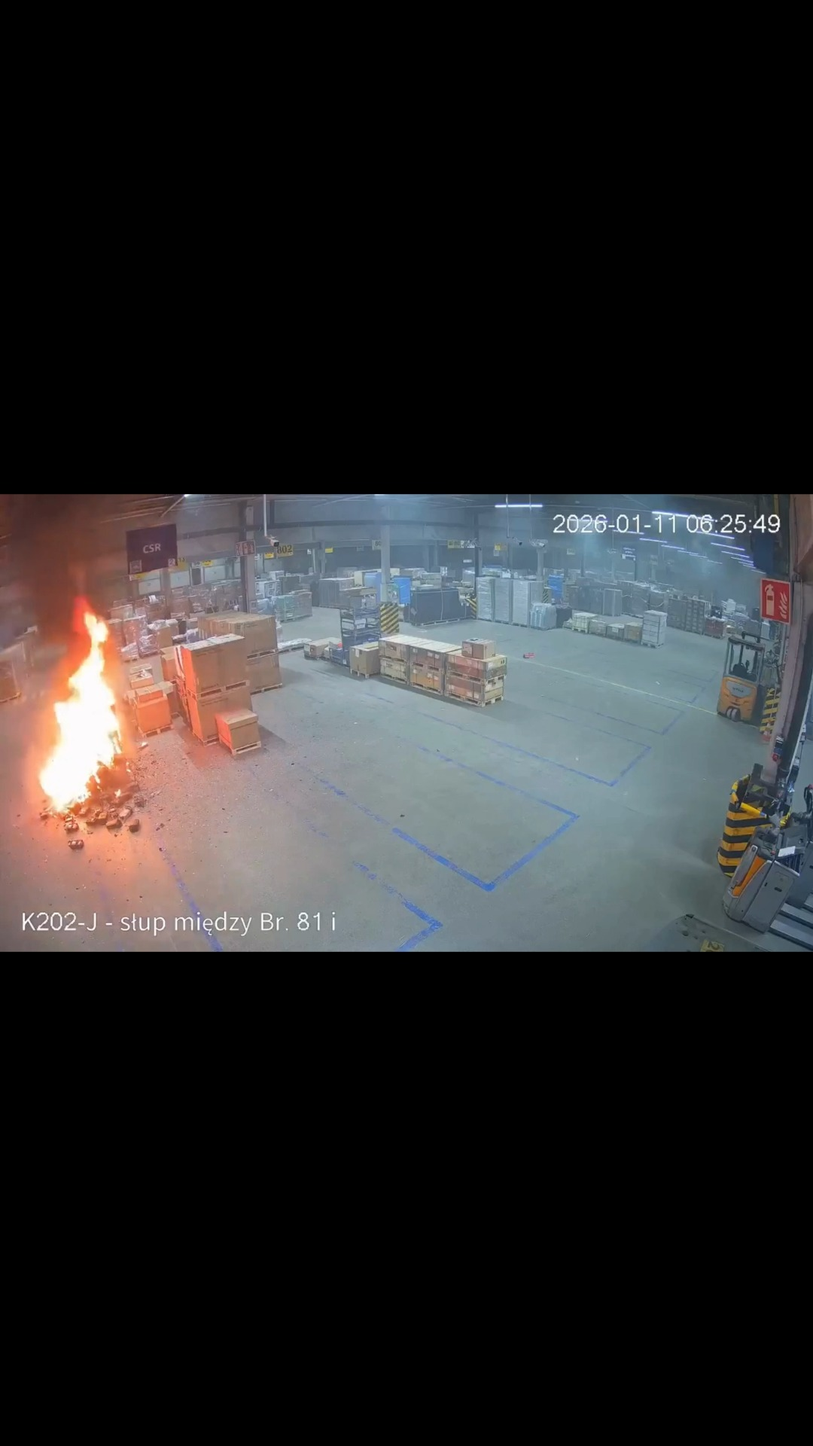fire: (34, 598, 126, 817)
smoke: (0, 495, 114, 622)
